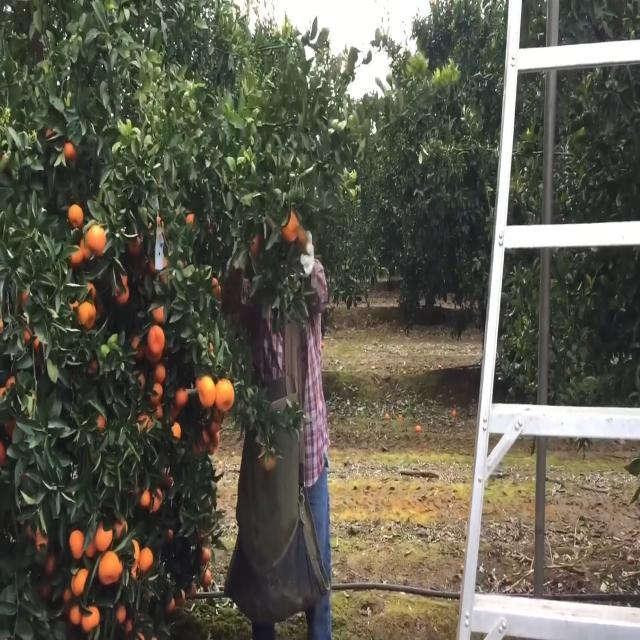Jeruk Sudah Matang: (96, 548, 125, 588), (210, 374, 240, 412), (84, 221, 112, 257), (75, 296, 98, 334), (68, 566, 94, 597), (146, 322, 168, 358), (66, 526, 88, 559), (198, 376, 218, 408), (134, 541, 155, 571), (65, 197, 85, 227)
